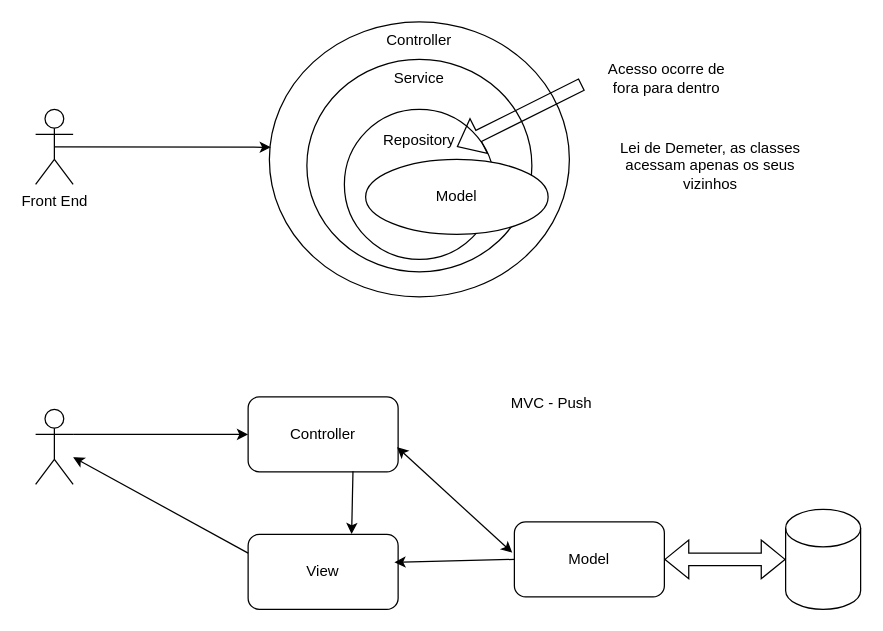
Image size: 883x631. Some labels were removed from this diagram. Here are the shapes that lost their labels. From the top down, the centre of each, then its label:
the point at 53,446: Usuario
the point at 822,558: Database
